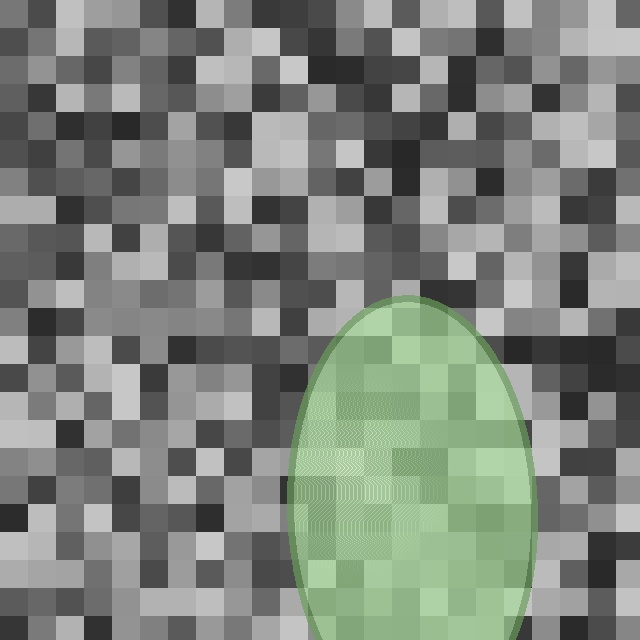lens: (290, 298, 534, 640)
